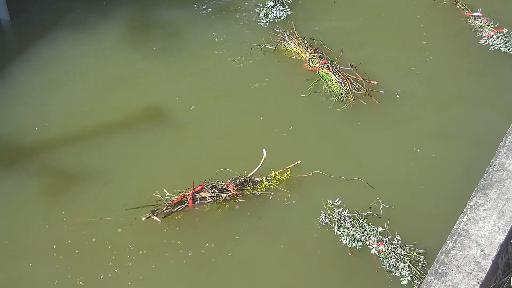twig: (275, 28, 430, 120), (100, 171, 379, 213), (330, 195, 406, 288), (425, 0, 512, 67), (247, 0, 294, 25)
